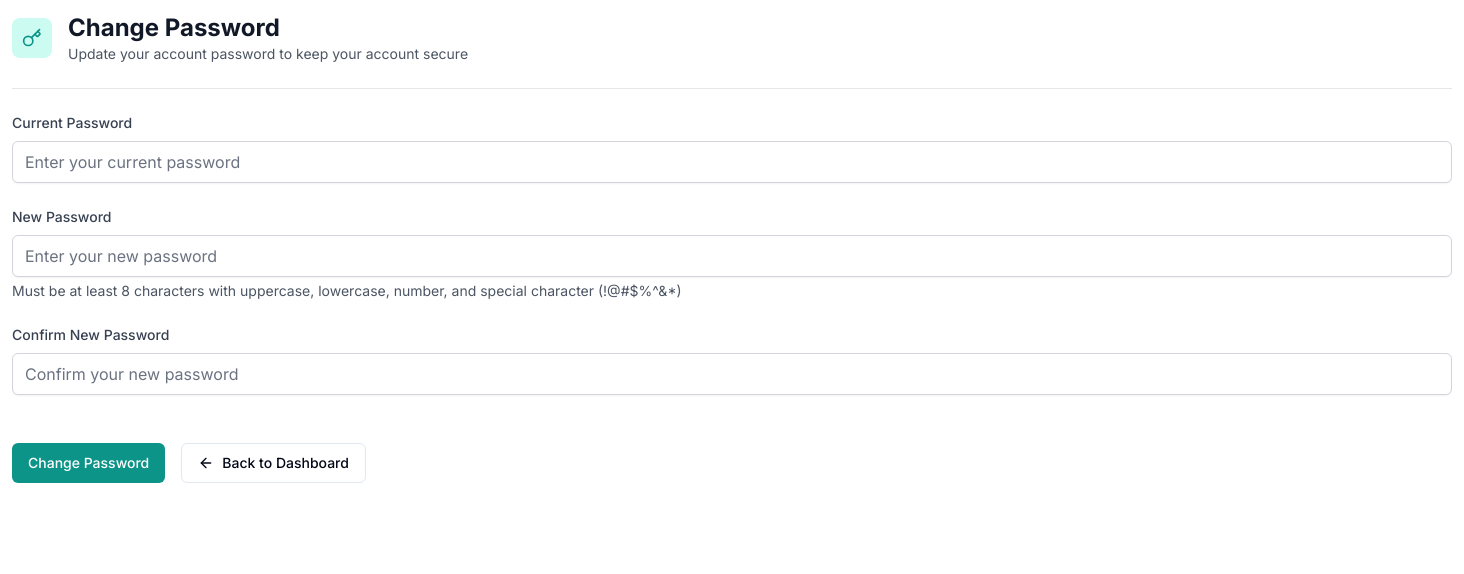
Test: ChangePasswordForm › Form Validation › should show error when passwords do not match
In the password field labelled "Current Password": (732, 162) [12, 141, 1452, 183], type "current123!"
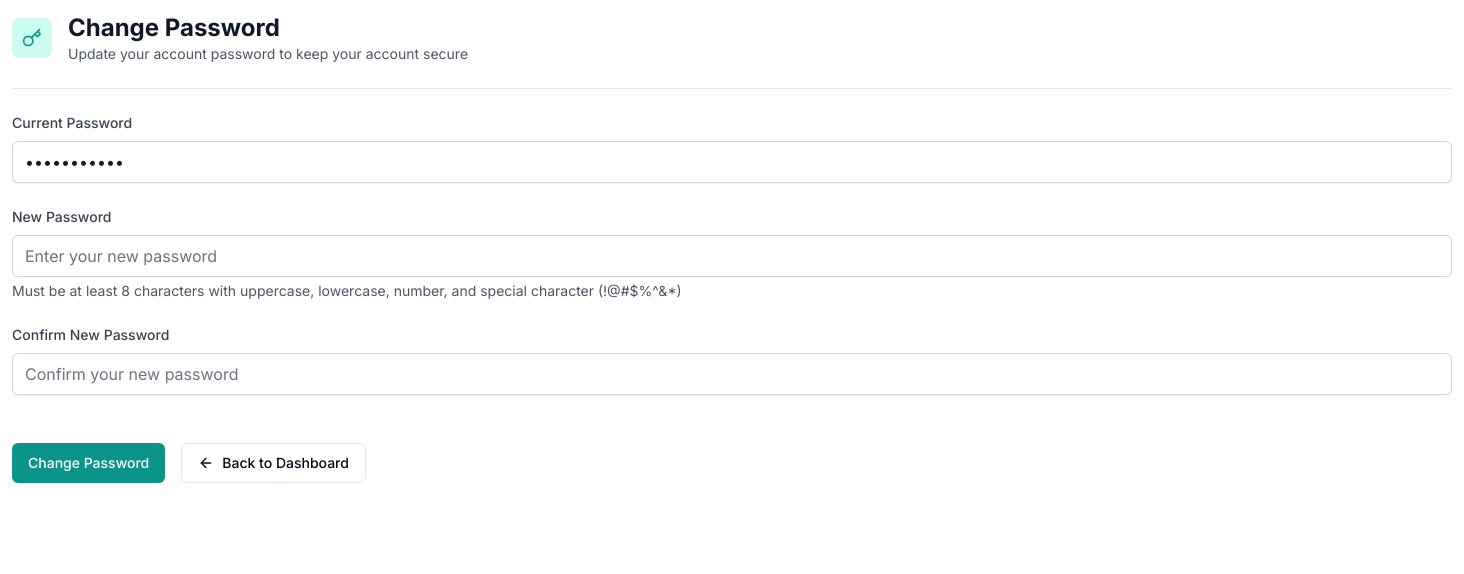
In the password field labelled "New Password": (732, 256) [12, 235, 1452, 277], type "NewPassword123!"
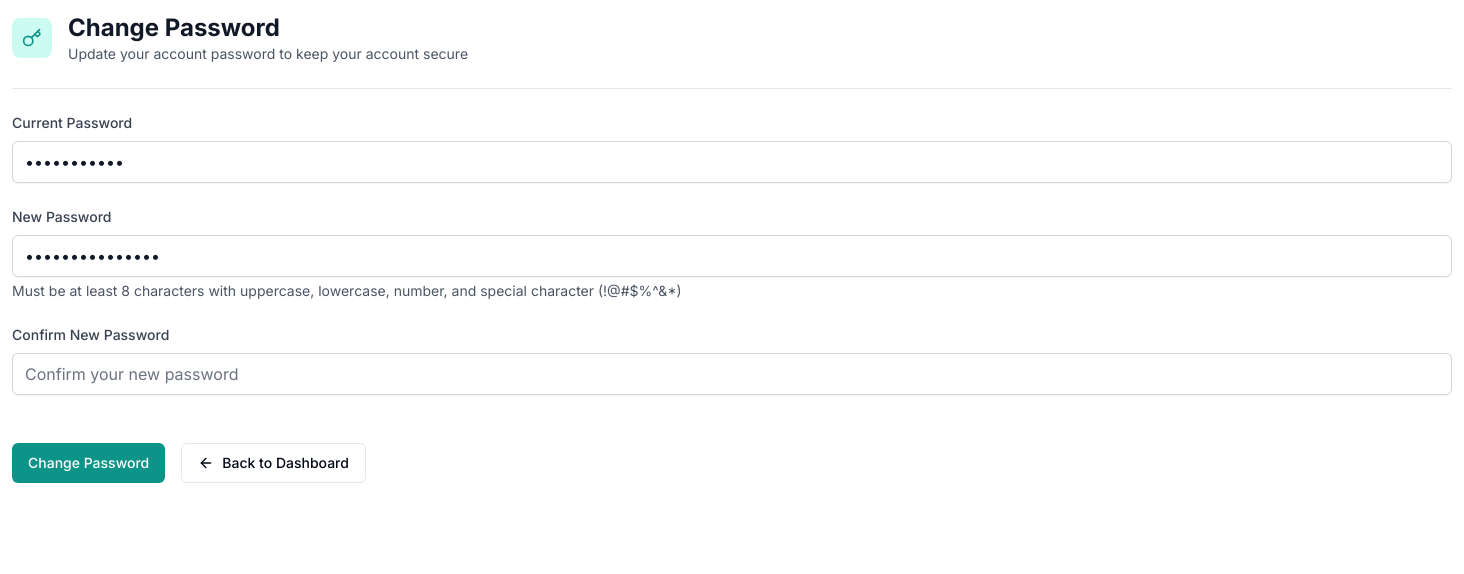
In the password field labelled "Confirm New Password": (732, 374) [12, 353, 1452, 395], type "DifferentPassword123!"
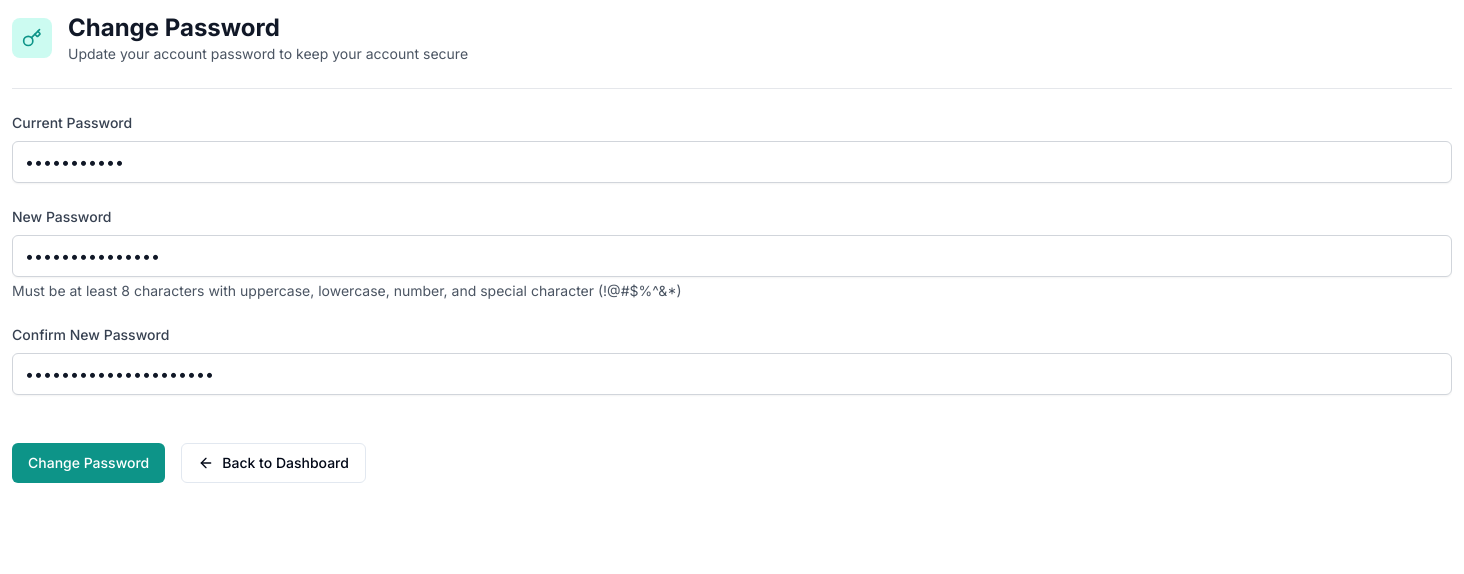
Click the button "Change Password": (89, 463) [12, 443, 165, 483]
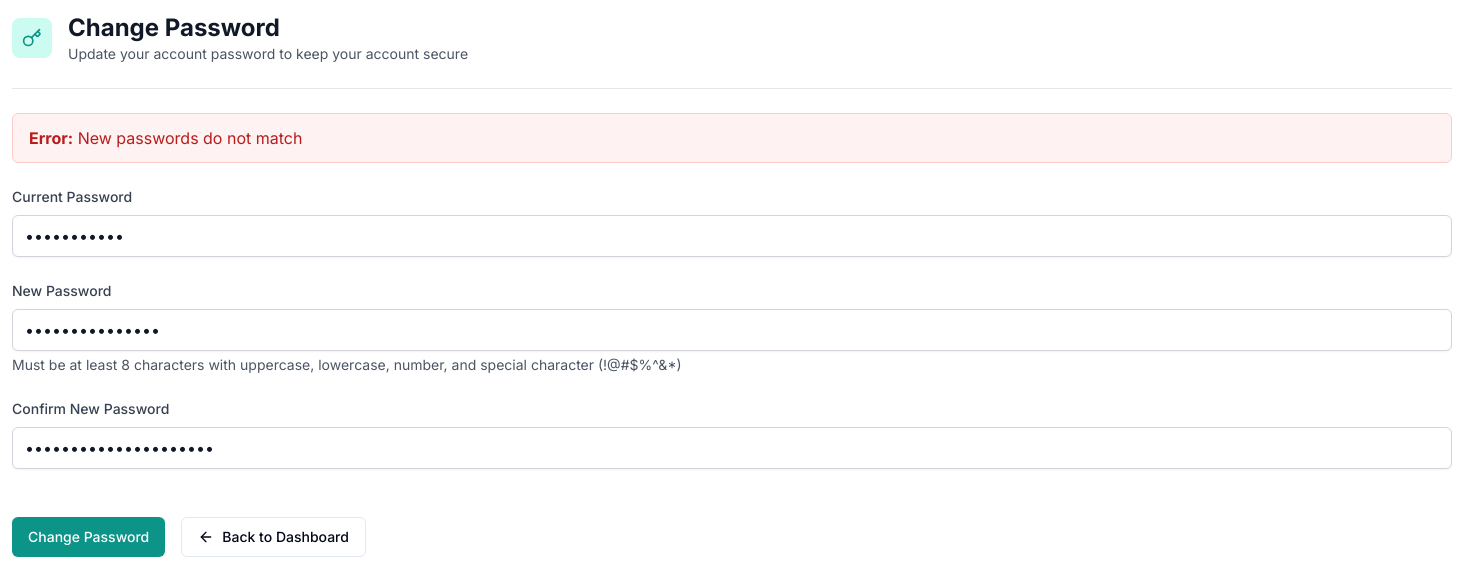
Now the text "New passwords do not match" is shown, box [78, 128, 302, 148]
